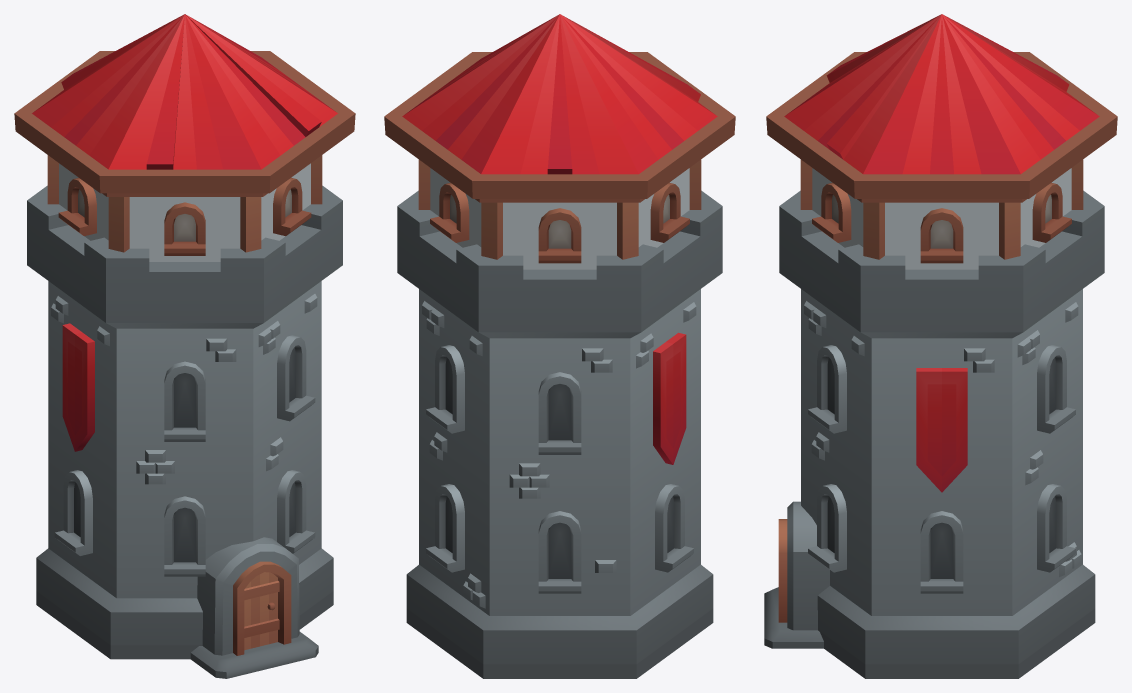
Rendered from building_tower_A_red.glb.
3 views of the same model, side by side, from view 1: azimuth 30°, elevation 25°; view 2: azimuth 150°, elevation 25°; view 3: azimuth 270°, elevation 25° (orthographic). The views are drawn at different scales.
Visible parts, largest first — view 1: building_tower_A_red, building_tower_A_top_red; view 2: building_tower_A_red, building_tower_A_top_red; view 3: building_tower_A_red, building_tower_A_top_red.
Part boxes in pixels (left/top/right/bottom): building_tower_A_red: left=27, top=185, right=342, bottom=678; building_tower_A_top_red: left=14, top=14, right=355, bottom=261; building_tower_A_red: left=397, top=190, right=722, bottom=678; building_tower_A_top_red: left=384, top=14, right=735, bottom=269; building_tower_A_red: left=764, top=190, right=1104, bottom=678; building_tower_A_top_red: left=766, top=14, right=1117, bottom=269.
Size of the model in its own units: 0.9933 by 2.19 by 1.15.
1 material, 1 textured.
